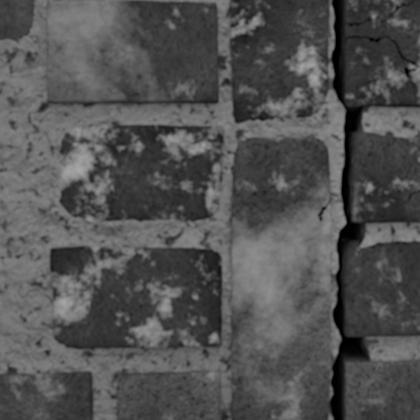brick: (232, 138, 330, 419), (47, 1, 217, 102), (51, 247, 221, 348), (60, 126, 222, 221), (230, 0, 328, 122), (344, 242, 419, 335), (353, 132, 419, 221), (345, 38, 419, 106), (118, 372, 220, 419), (345, 0, 419, 64), (0, 372, 92, 419), (345, 361, 419, 419), (344, 0, 410, 21), (0, 0, 34, 39)
crack: (328, 0, 419, 419), (316, 197, 330, 222)
